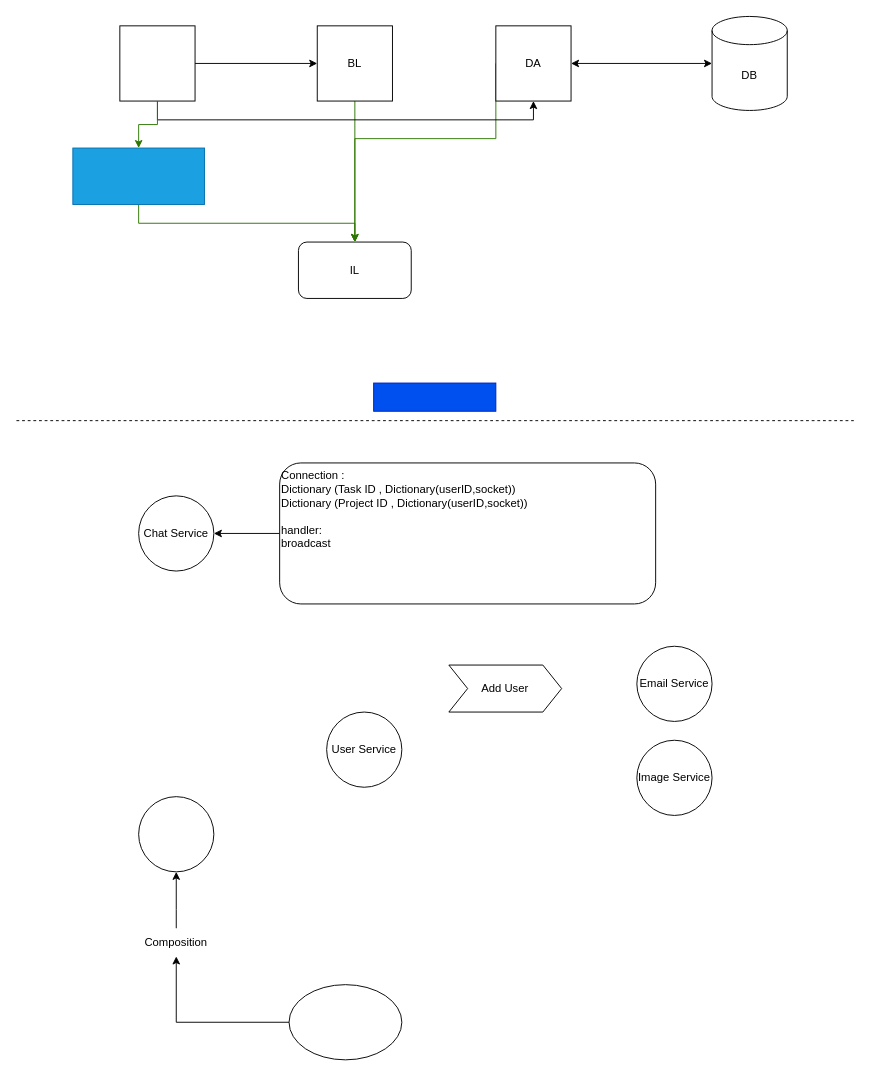
The diagram is 871 pixels wide and 1076 high, and some of its shapes have lost their labels. The shapes that lost their labels are listed below. From the top down, each one's centre as x and y in pixels, then its label:
At pixel 157 63: "PL".
At pixel 138 175: "PL has access into IL only to get access to BL and DA".
At pixel 434 396: "BL in Zoom".
At pixel 176 834: "Project Service".
At pixel 345 1022: "Tasks Service".
